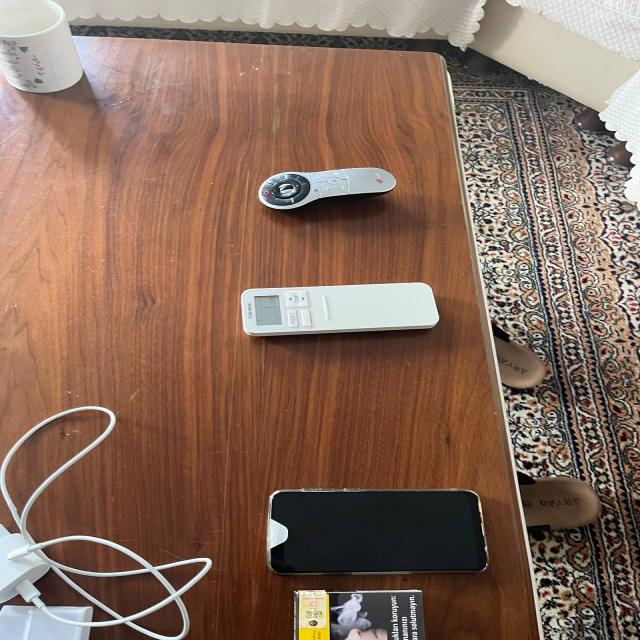remote: (232, 280, 453, 343), (248, 160, 410, 222)
